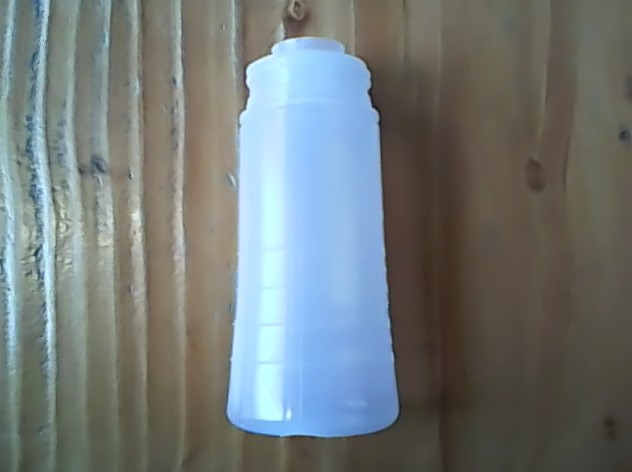Plastic: (226, 31, 403, 445)
